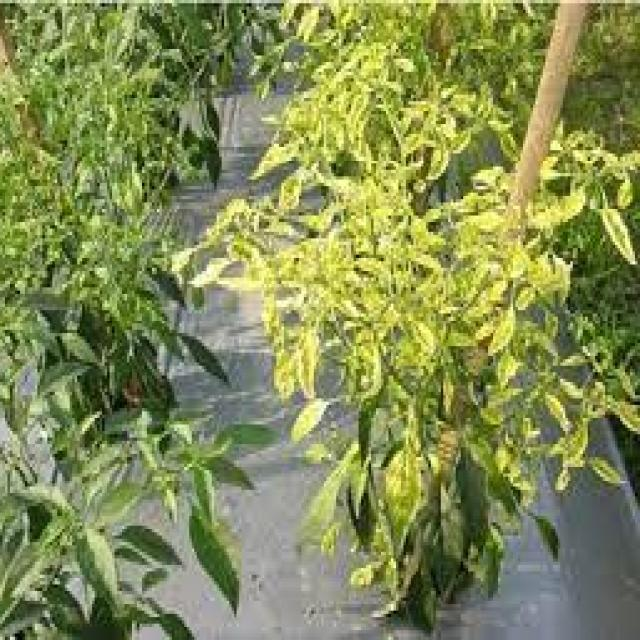virus_kuning: (276, 390, 338, 454), (478, 299, 532, 369), (249, 129, 300, 199)
